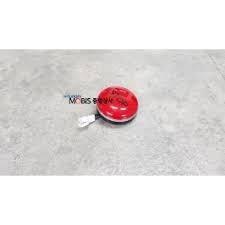bell: (93, 84, 143, 126)
